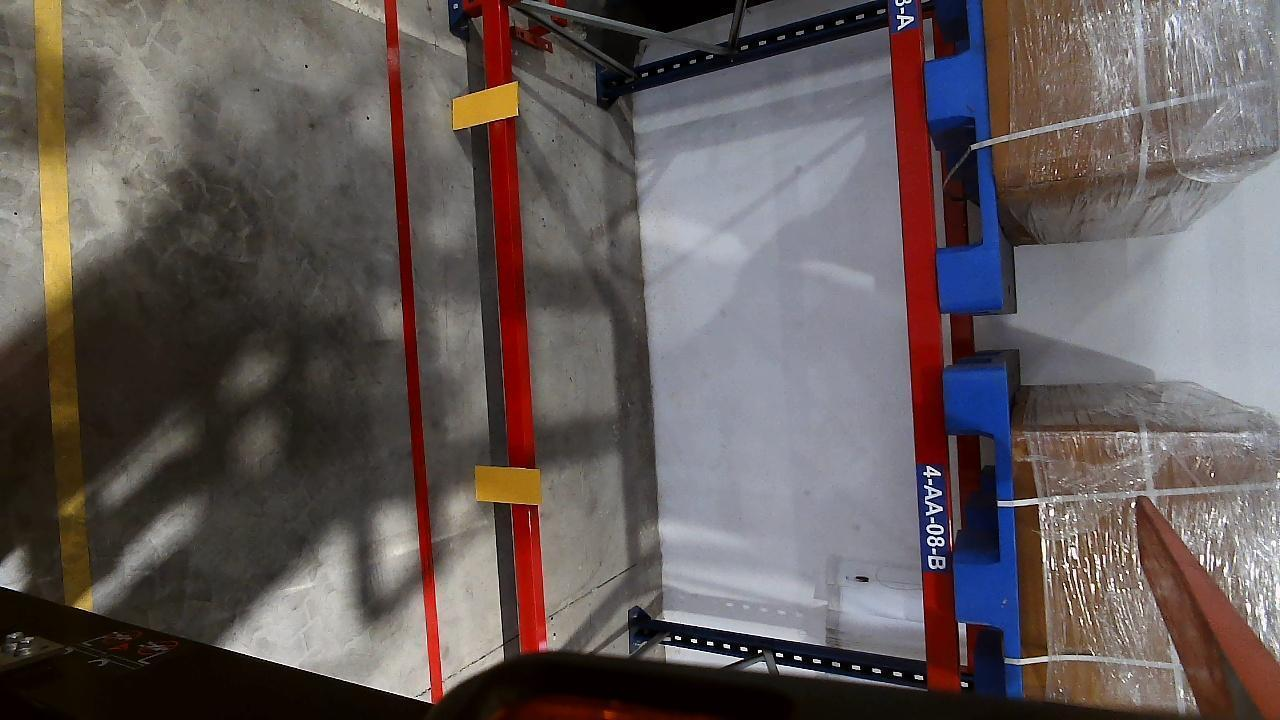red_line: (376, 0, 444, 700)
yellow_line: (29, 0, 90, 604)
